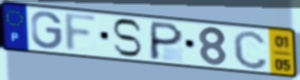8: (197, 25, 229, 67)
C: (232, 29, 270, 71)
F: (63, 12, 100, 54)
G: (30, 10, 65, 51)
P: (148, 20, 186, 62)
S: (110, 17, 144, 59)
